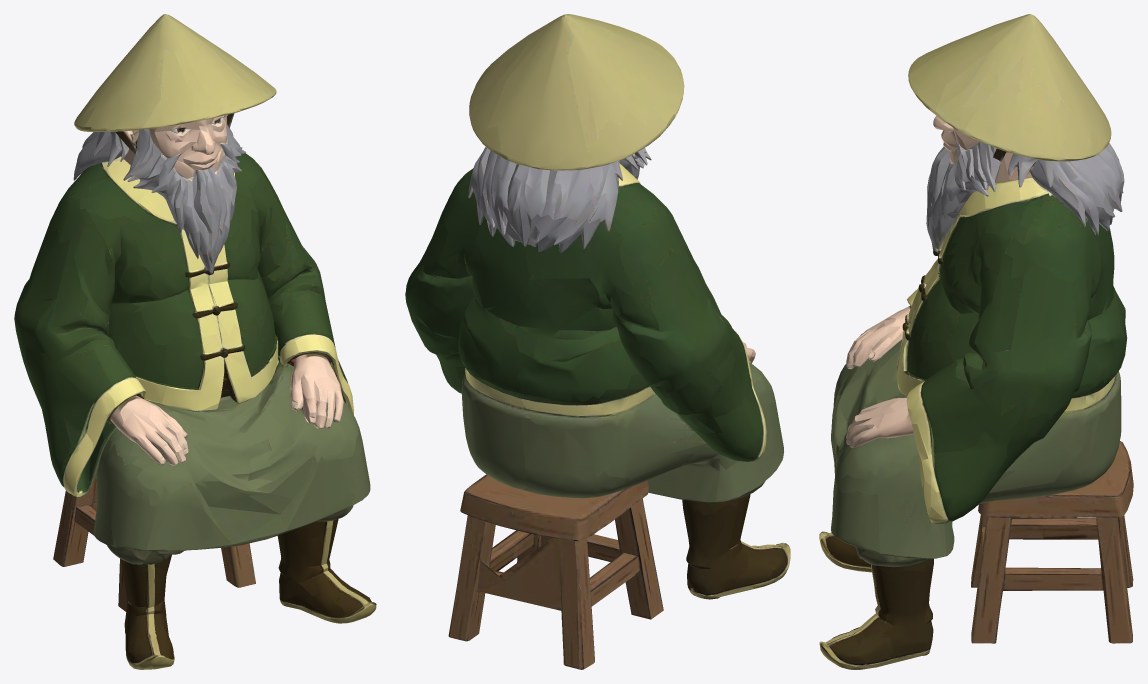
Rendered from irohek2.glb.
3 views of the same model, side by side, from view 1: azimuth 30°, elevation 25°; view 2: azimuth 150°, elevation 25°; view 3: azimuth 270°, elevation 25° (orthographic). The views are drawn at different scales.
Parts seen in each view (by area): view 1: Mesh_0; view 2: Mesh_0; view 3: Mesh_0.
Part boxes in pixels (box(x1,y1,x2,y2)): Mesh_0: box(14, 14, 376, 669); Mesh_0: box(405, 14, 790, 669); Mesh_0: box(819, 14, 1133, 669).
Size of the model in its own units: 1.02 by 1.9 by 0.9085.
1 material, 1 textured.
